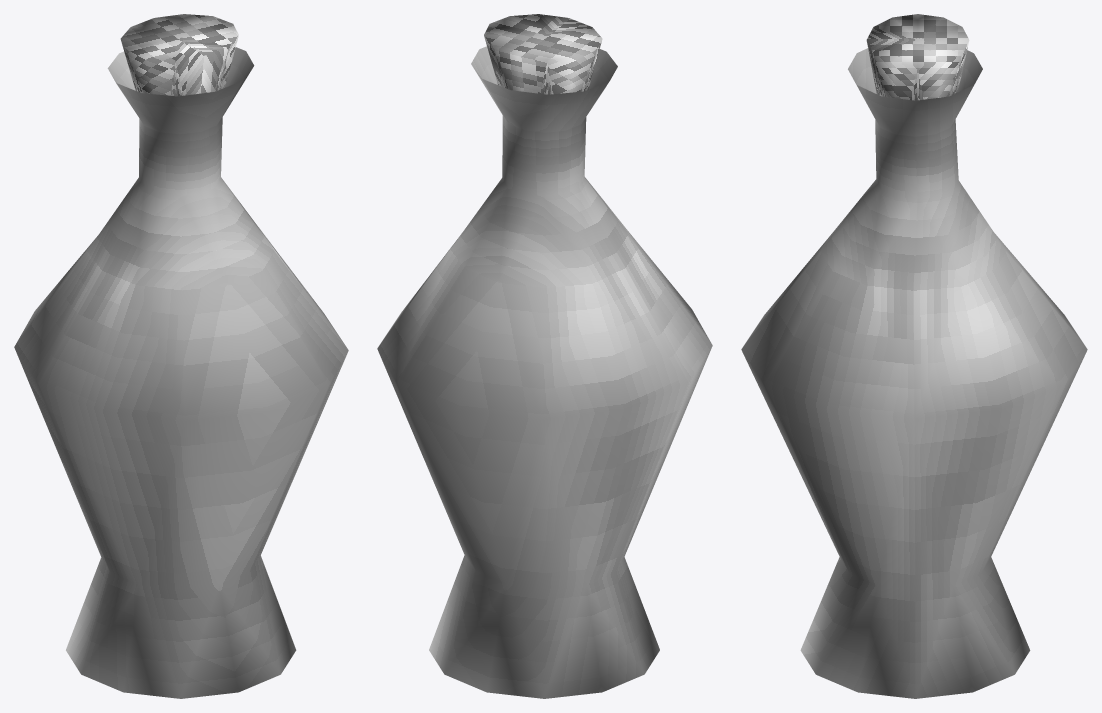
The model's file is speedpotion.obj.
The picture shows the model from 3 angles, left to right: view 1: azimuth 30°, elevation 25°; view 2: azimuth 150°, elevation 25°; view 3: azimuth 270°, elevation 25°; orthographic projection.
Visible parts, largest first — view 1: Cylinder01, Duplicate01, Cylinder02; view 2: Cylinder01, Duplicate01, Cylinder02; view 3: Cylinder01, Duplicate01, Cylinder02.
Boxes of the visible parts, box(x1,y1,x2,y2) form: Cylinder01: box(14, 233, 348, 698); Duplicate01: box(87, 47, 273, 289); Cylinder02: box(120, 14, 238, 96); Cylinder01: box(377, 229, 712, 698); Duplicate01: box(451, 46, 637, 286); Cylinder02: box(484, 14, 602, 94); Cylinder01: box(741, 233, 1087, 698); Duplicate01: box(821, 48, 1005, 289); Cylinder02: box(866, 14, 969, 100).
Size of the model in its own units: 15.4 by 31.5 by 16.2.
